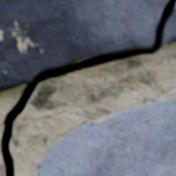brick: (38, 96, 175, 175)
broken_brick: (0, 0, 168, 91), (161, 1, 175, 45)
crack: (0, 0, 175, 175)
